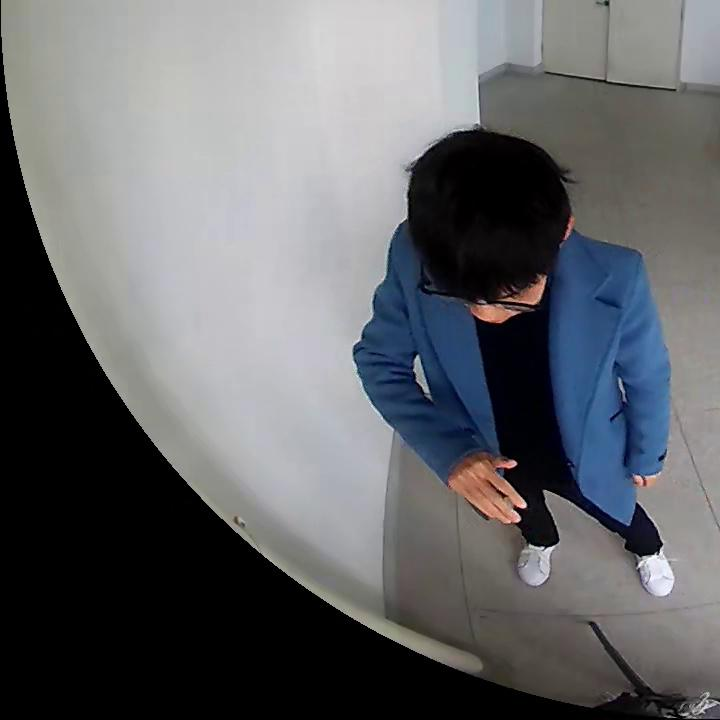handsmoke: (446, 456, 526, 522)
mouthwithoutsmoke: (405, 132, 575, 324)
